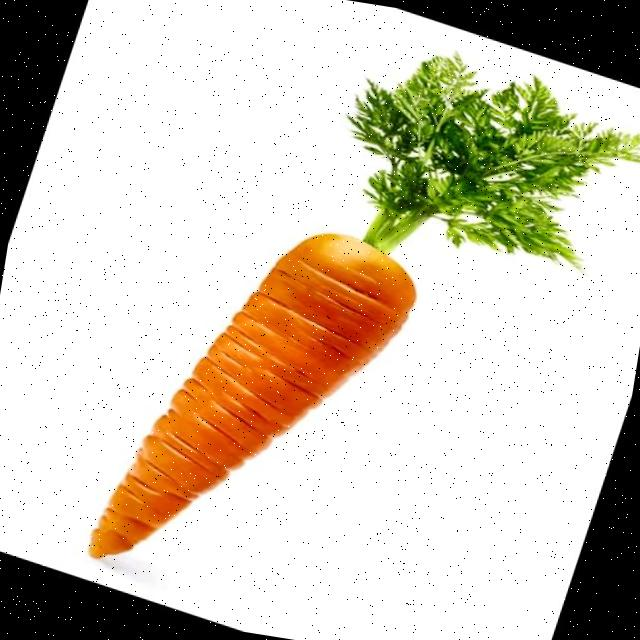carrot: (89, 56, 640, 558)
